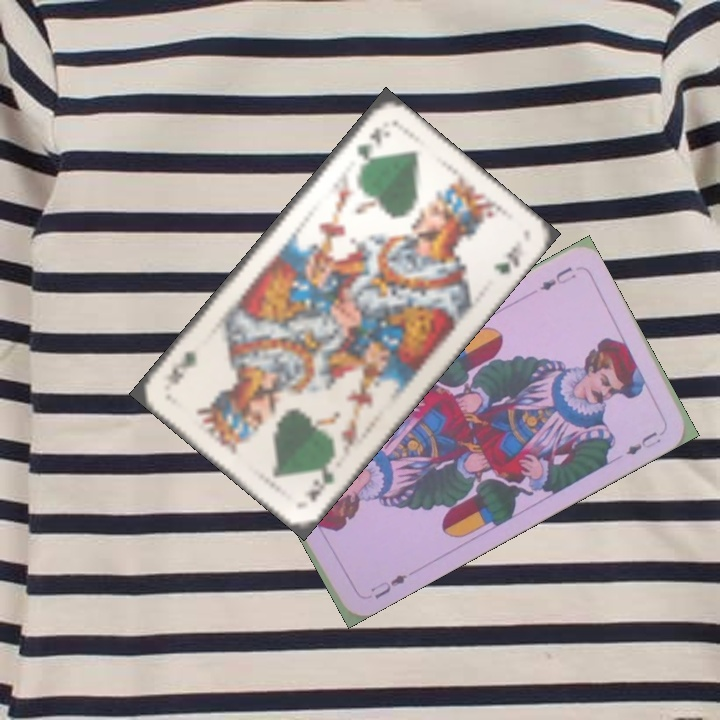EU: (366, 570, 410, 602), (536, 262, 579, 294)
GK: (304, 454, 337, 505), (352, 123, 385, 163)
